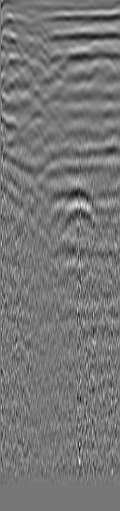상수: (10, 19, 30, 39)
